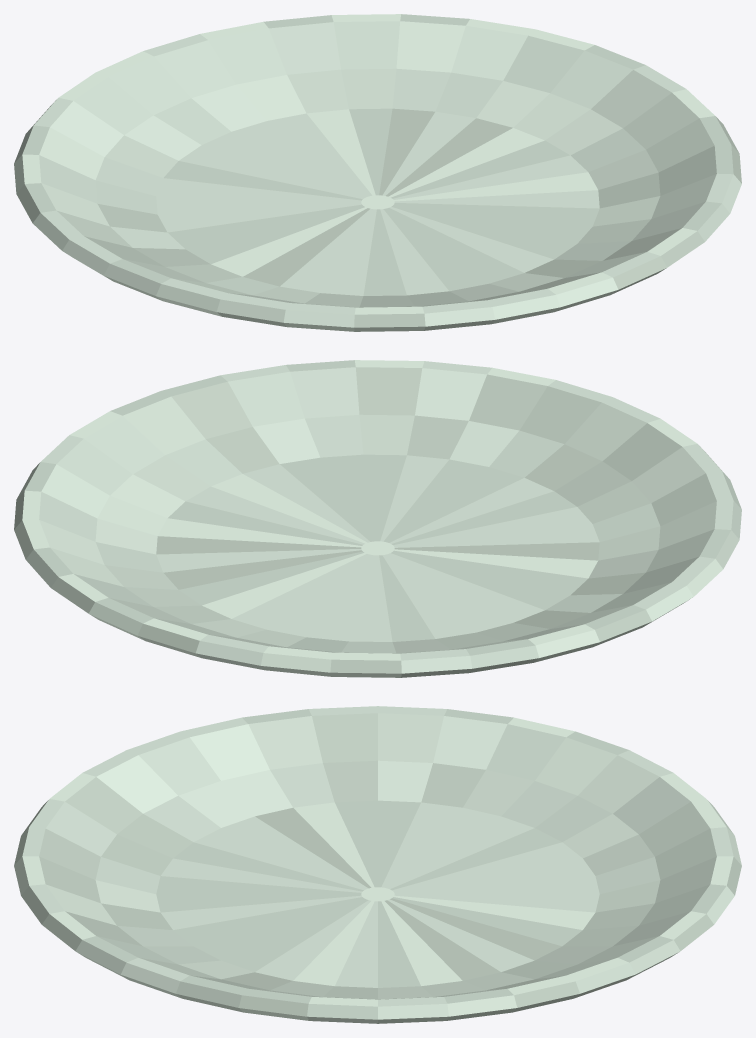
Rendered from ED_07_Wide_Rim_Dinner_Plate.fbx.
3 renders of one model, top to bottom at view 1: azimuth 30°, elevation 25°; view 2: azimuth 150°, elevation 25°; view 3: azimuth 270°, elevation 25°, orthographic.
Parts seen in each view (by area): view 1: ED_07_Wide_Rim_Dinner_Plate; view 2: ED_07_Wide_Rim_Dinner_Plate; view 3: ED_07_Wide_Rim_Dinner_Plate.
Part boxes in pixels (x1,y1,x2,y2): ED_07_Wide_Rim_Dinner_Plate: [14, 14, 741, 331]; ED_07_Wide_Rim_Dinner_Plate: [14, 360, 741, 677]; ED_07_Wide_Rim_Dinner_Plate: [14, 706, 741, 1023].
Bounding box in the file's own units: 3.48 × 0.36 × 3.48.
Materials: 1 (1 with a texture image).
